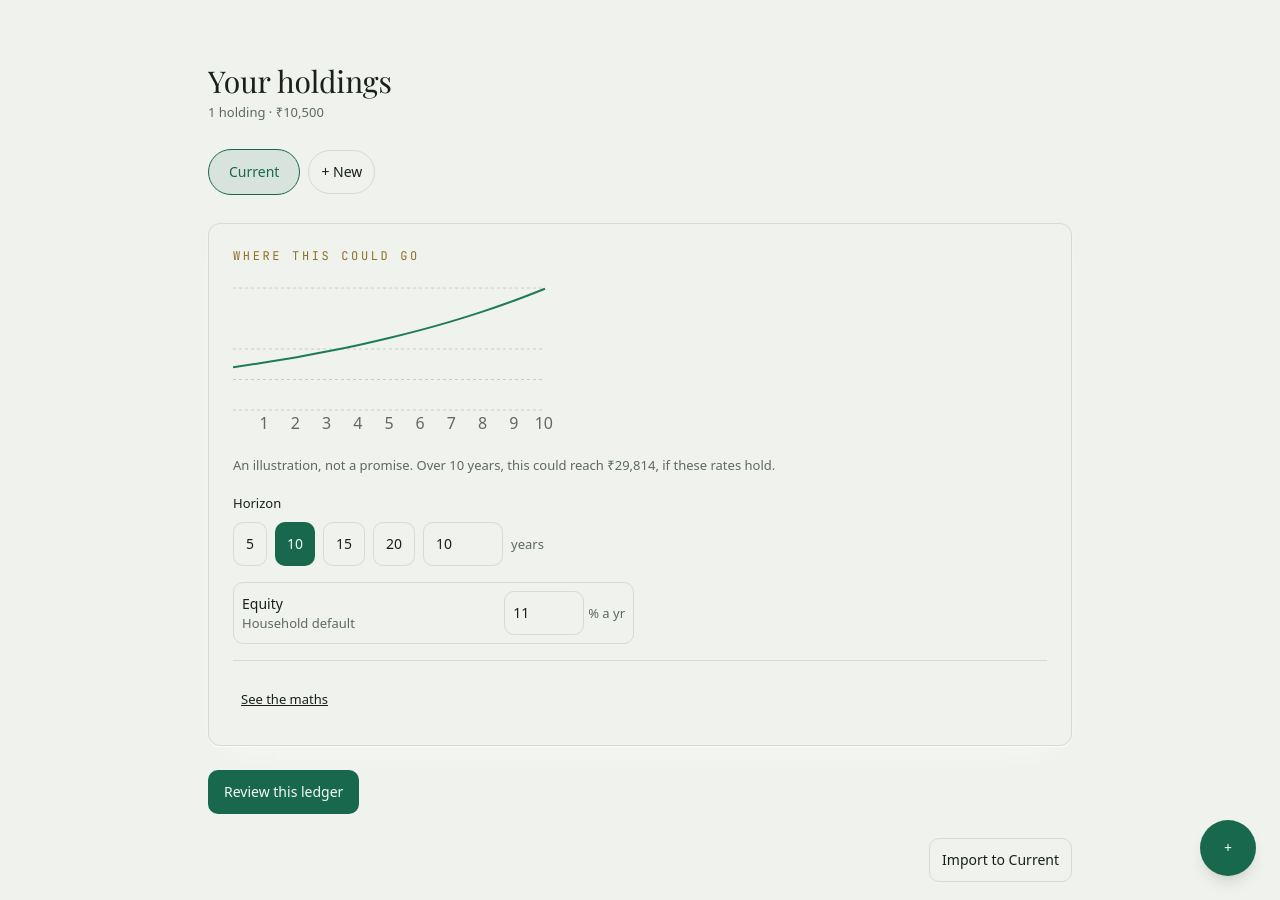
Test: Portfolio — Apply on an AI suggestion creates a new, empty ledger (M3c) › surfaces the 4-ledger cap in the same words the manual "+ New ledger" flow uses, and creates nothing
Click the button "Review this ledger".
click(284, 792)  # box [208, 770, 359, 814]
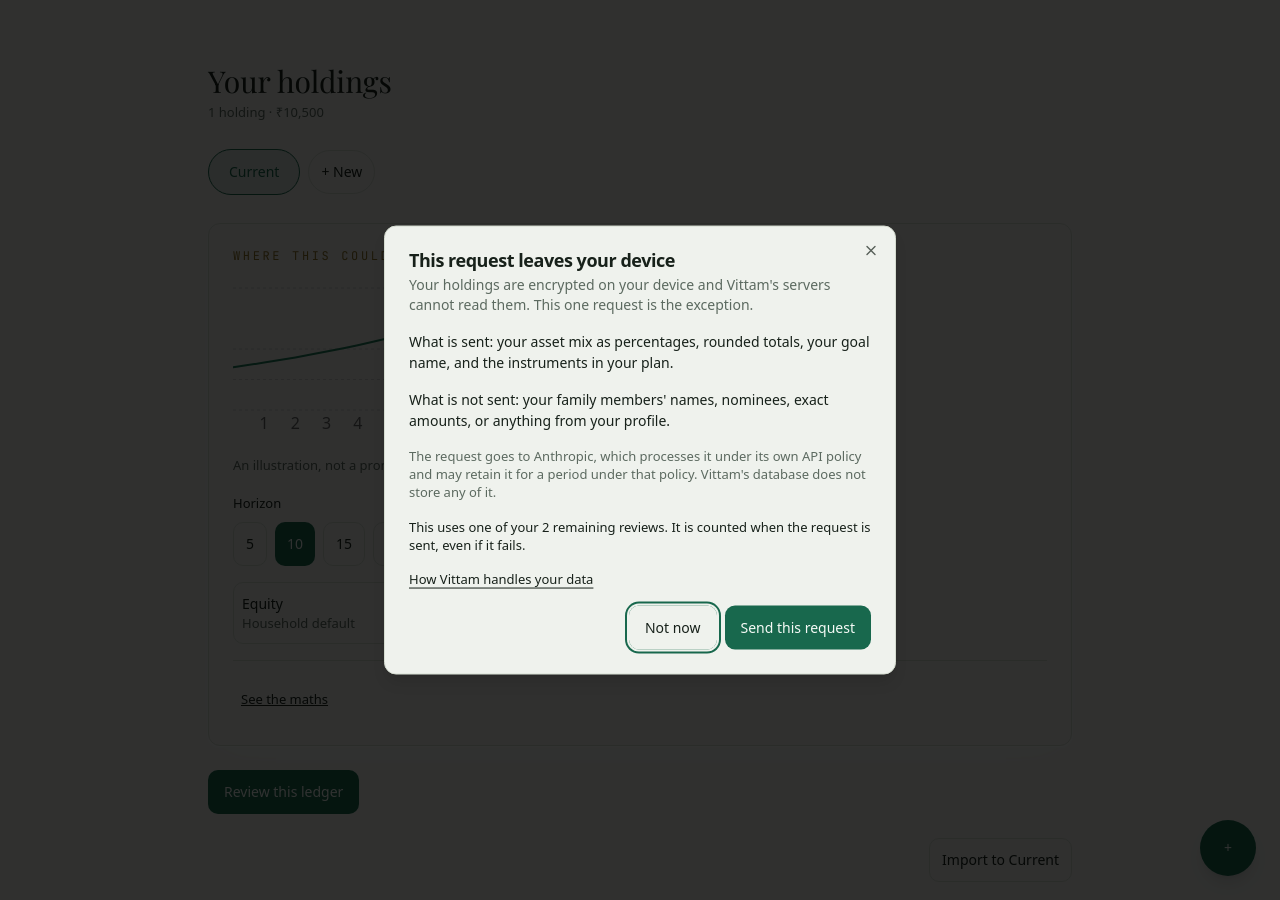
Click the button "Send this request".
click(798, 628)  # box [724, 606, 871, 650]
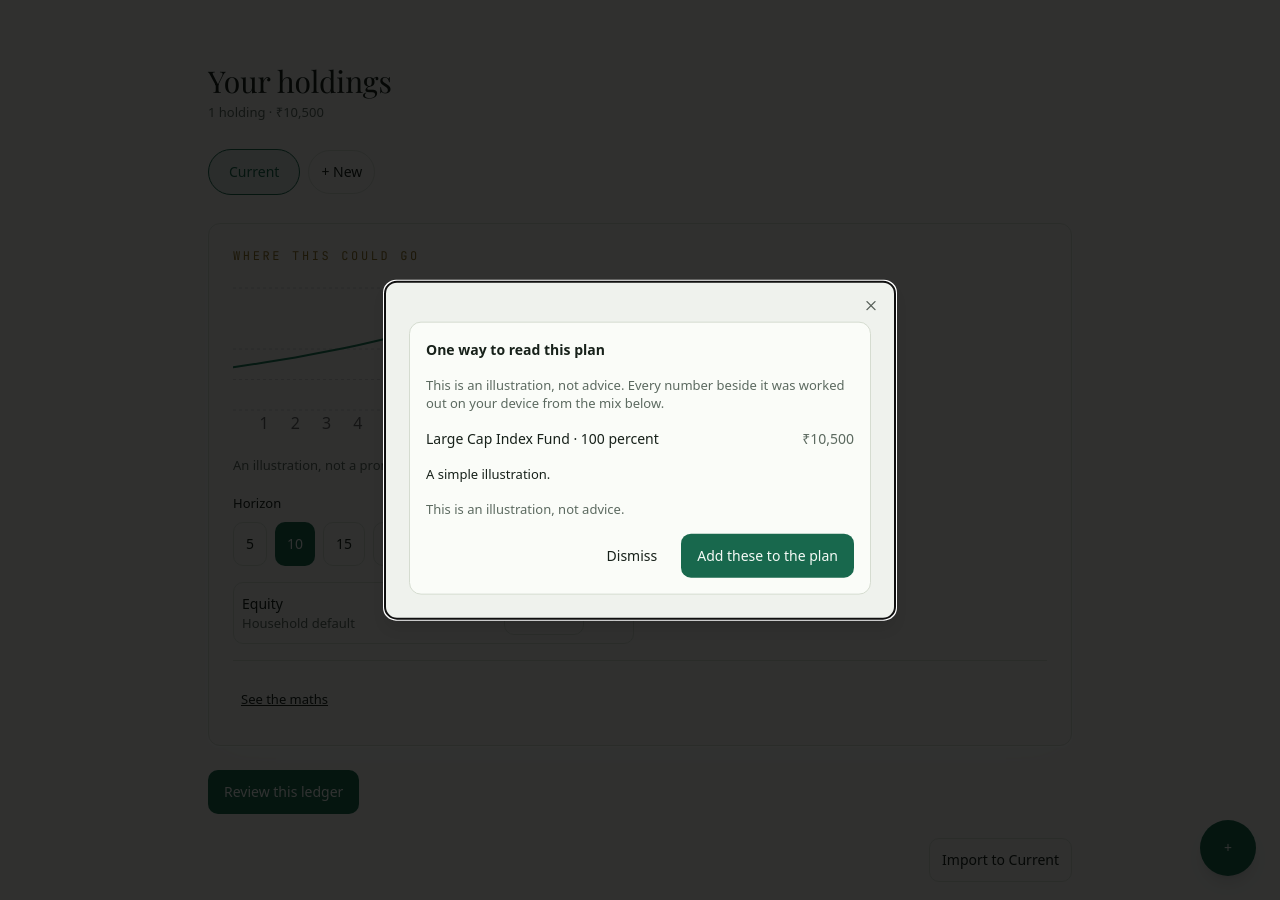
Check: the list with test id "ai-suggestion-allocations" is shown, box [426, 428, 854, 449]
Click the button "Add these to the plan".
click(768, 555)  # box [681, 533, 854, 577]
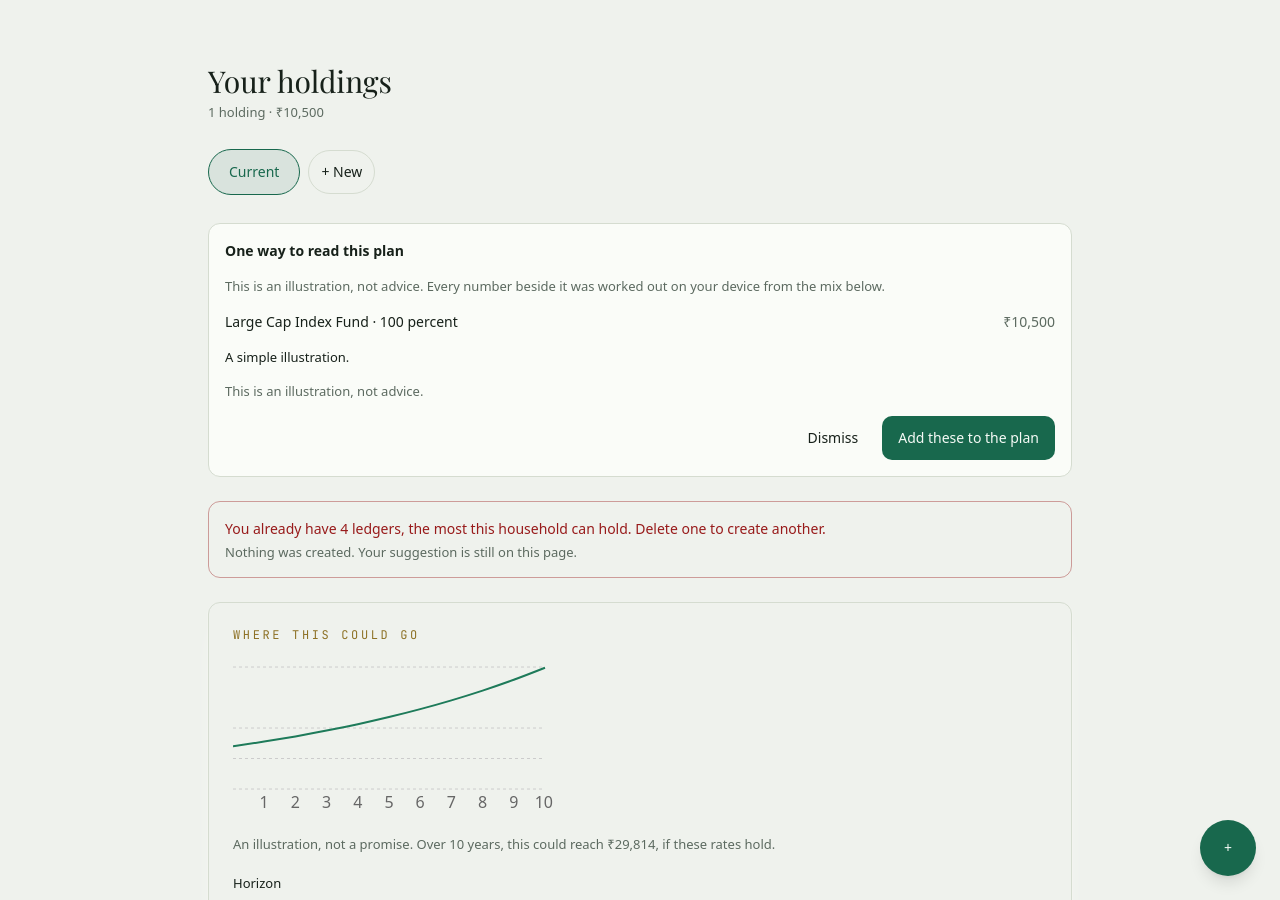
Check: the message with test id "apply-suggestion-notice" shows "You already have 4 ledgers, the most this household can hold. Delete one to create another.", box [225, 519, 826, 538]
